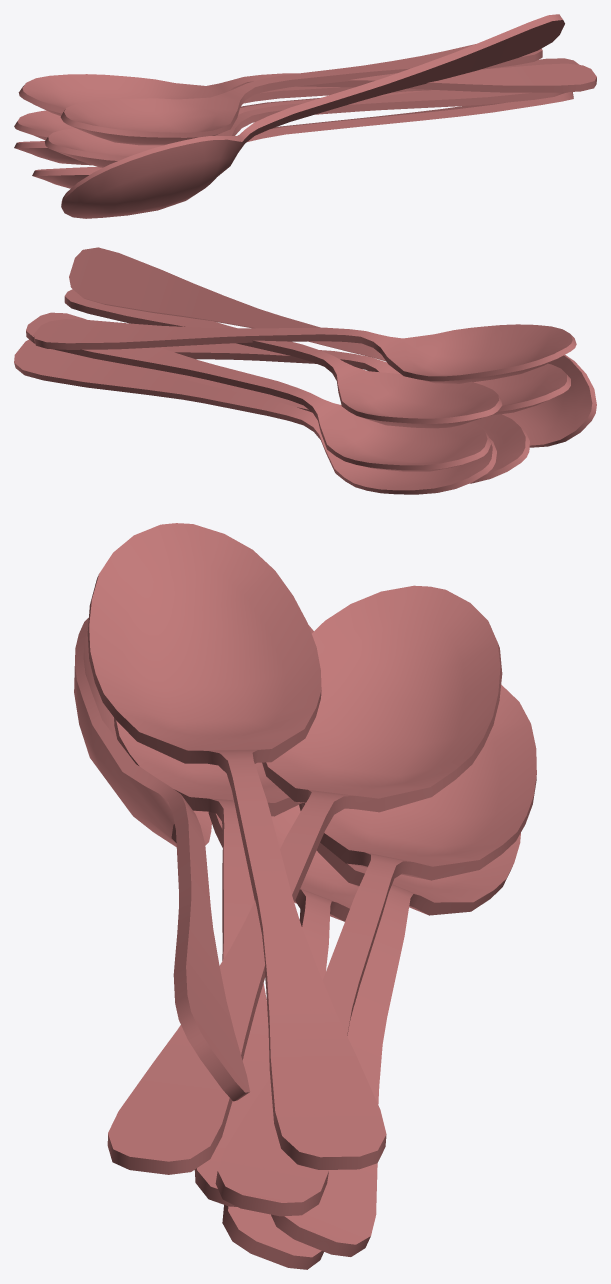
Rendered from SM_SilverwarePile_01b.FBX.
3 views of the same model, one above another, from view 1: azimuth 30°, elevation 25°; view 2: azimuth 150°, elevation 25°; view 3: azimuth 270°, elevation 25° (orthographic). The views are drawn at different scales.
Visible parts, largest first — view 1: SM_SilverwarePile_01b_LOD0; view 2: SM_SilverwarePile_01b_LOD0; view 3: SM_SilverwarePile_01b_LOD0.
Boxes of the visible parts, x1=… form: SM_SilverwarePile_01b_LOD0: x1=14, y1=14, x2=596, y2=218; SM_SilverwarePile_01b_LOD0: x1=14, y1=247, x2=596, y2=494; SM_SilverwarePile_01b_LOD0: x1=74, y1=523, x2=536, y2=1269.
Size of what is drawn, in the model's own units: 23.06 by 5.32 by 8.66.
